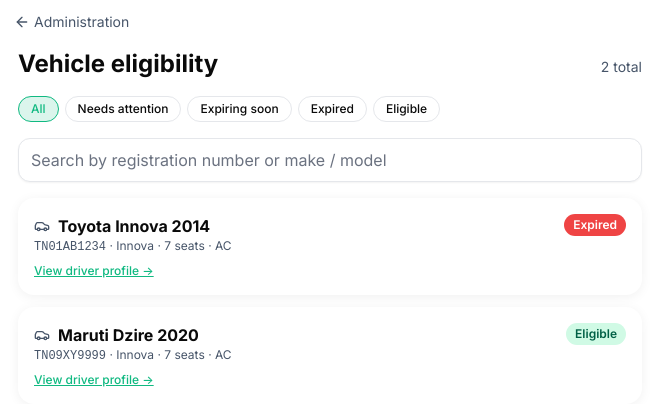
Test: VehicleEligibilityPage › the search box narrows the loaded list by registration or make / model
The width and height of the screenshot is (659, 404).
Type "tn09" into the field named "search vehicles" at [330, 160], box [18, 138, 642, 182]
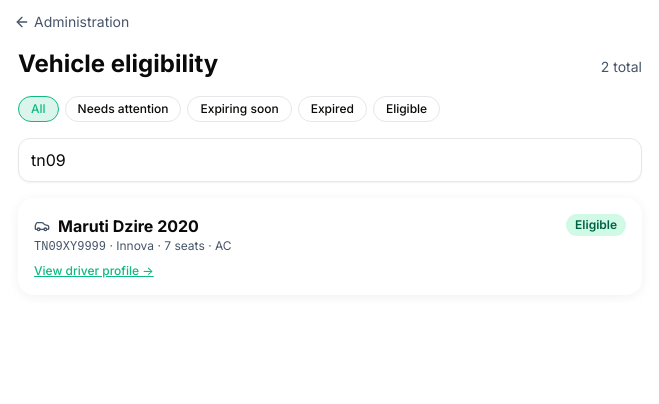
expect the text "Maruti Dzire 2020" is shown: met, box [34, 216, 199, 236]
expect the text "Toyota Innova" is gone: met
Replace the text in the field named "search vehicles" with "innova" at [330, 160], box [18, 138, 642, 182]
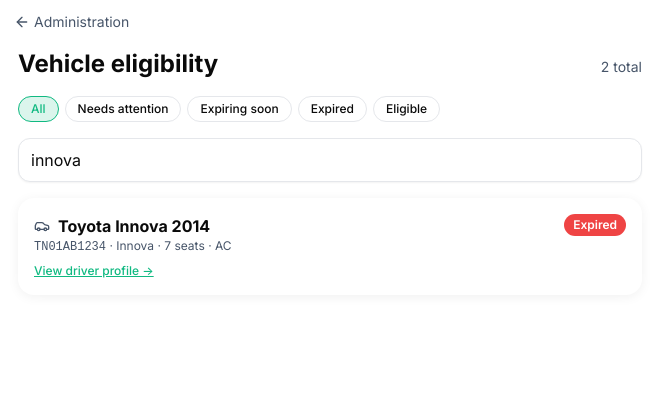
expect the text "Toyota Innova 2014" is shown: met, box [34, 214, 232, 238]
expect the text "Maruti Dzire" is gone: met
Replace the text in the field named "search vehicles" with "zzzz" at [330, 160], box [18, 138, 642, 182]
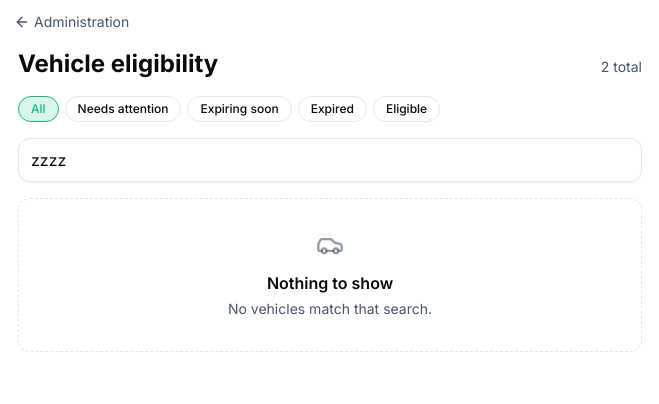
expect the text "No vehicles match that search." is shown: met, box [228, 299, 432, 319]
